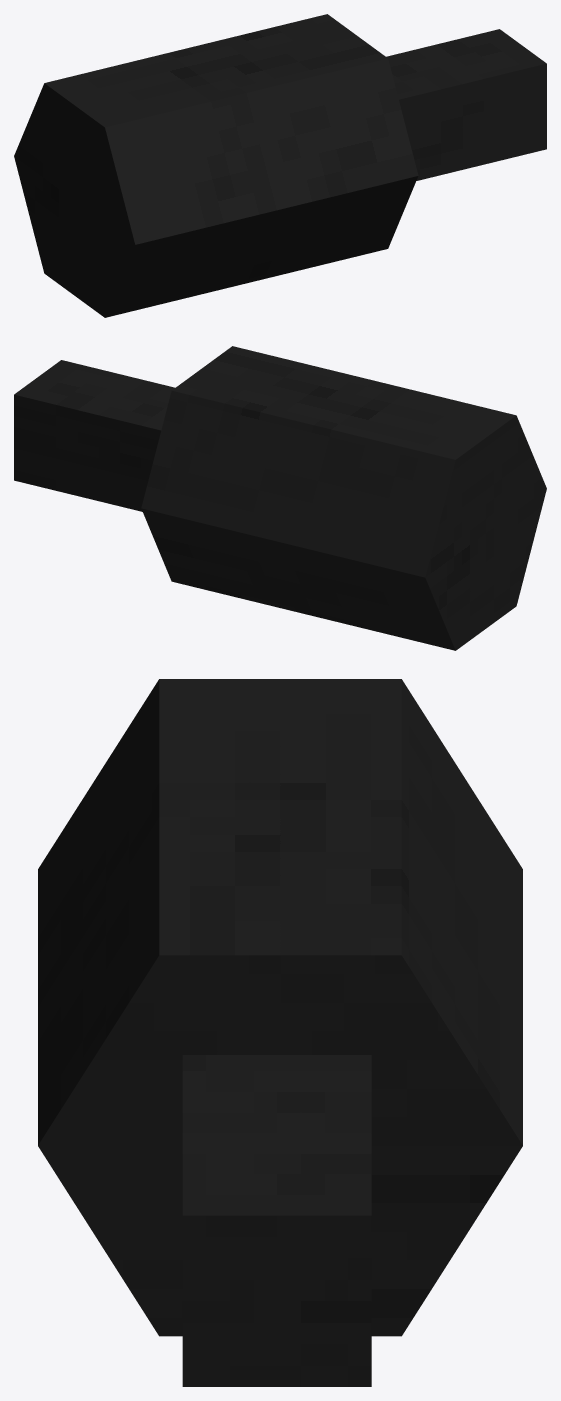
The model's file is antenna_root.obj.
The picture shows the model from 3 angles, top to bottom: view 1: azimuth 30°, elevation 25°; view 2: azimuth 150°, elevation 25°; view 3: azimuth 270°, elevation 25°; orthographic projection. The views are drawn at different scales.
Parts seen in each view (by area): view 1: 円柱, 立方体; view 2: 円柱, 立方体; view 3: 円柱, 立方体.
Part boxes in pixels (left/top/right/bottom): 円柱: left=14, top=14, right=418, bottom=317; 立方体: left=386, top=29, right=546, bottom=180; 円柱: left=141, top=346, right=546, bottom=650; 立方体: left=14, top=360, right=174, bottom=511; 円柱: left=38, top=679, right=522, bottom=1336; 立方体: left=182, top=1055, right=371, bottom=1386.
Bounding box in the file's own units: 0.0612 × 0.0249 × 0.0287.
